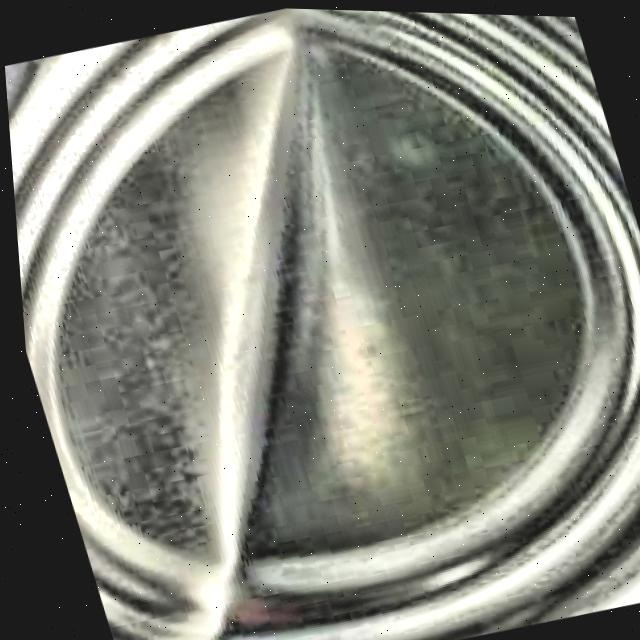metal: (5, 7, 640, 640)
